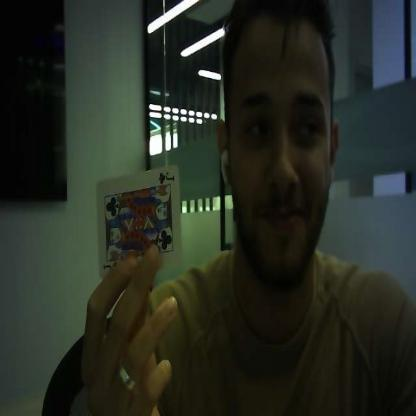JC: (156, 169, 177, 185)
